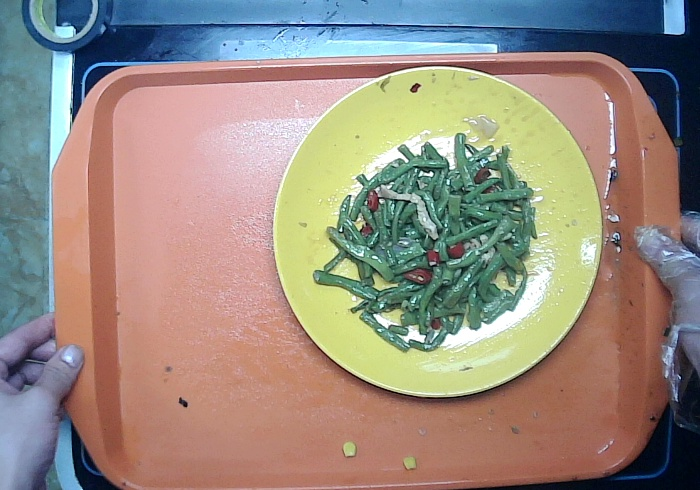HZYJPL-Huang_Se_Yuan_Pan: (264, 66, 600, 407)
